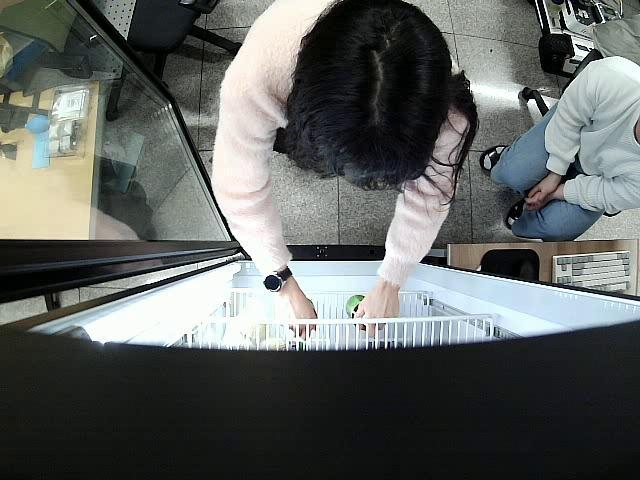19_17cha: (344, 295, 368, 319)
